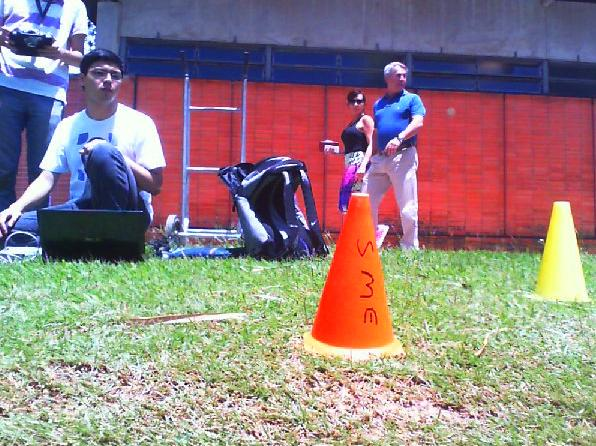0 cone: (304, 191, 404, 362), (524, 201, 592, 302)
